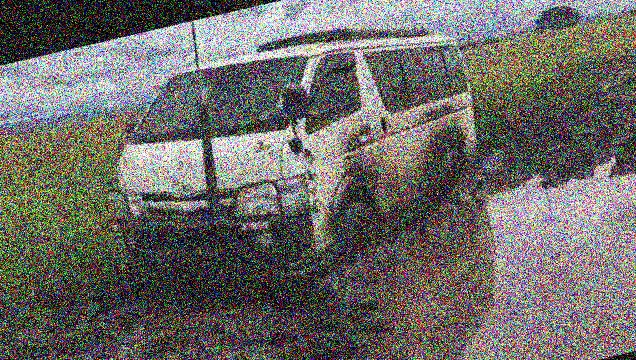van: (78, 0, 517, 310)
